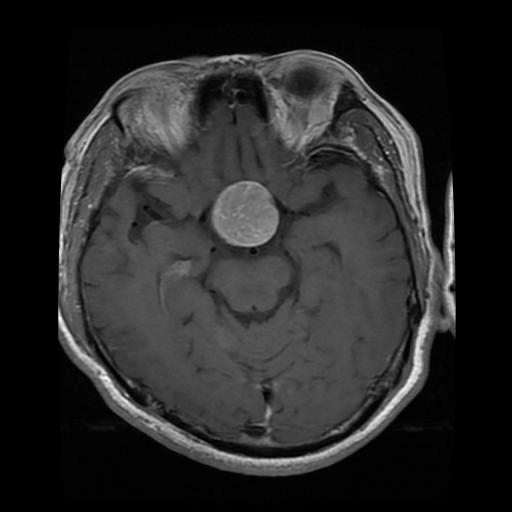Tumour-Pituitary: (212, 183, 280, 255)
